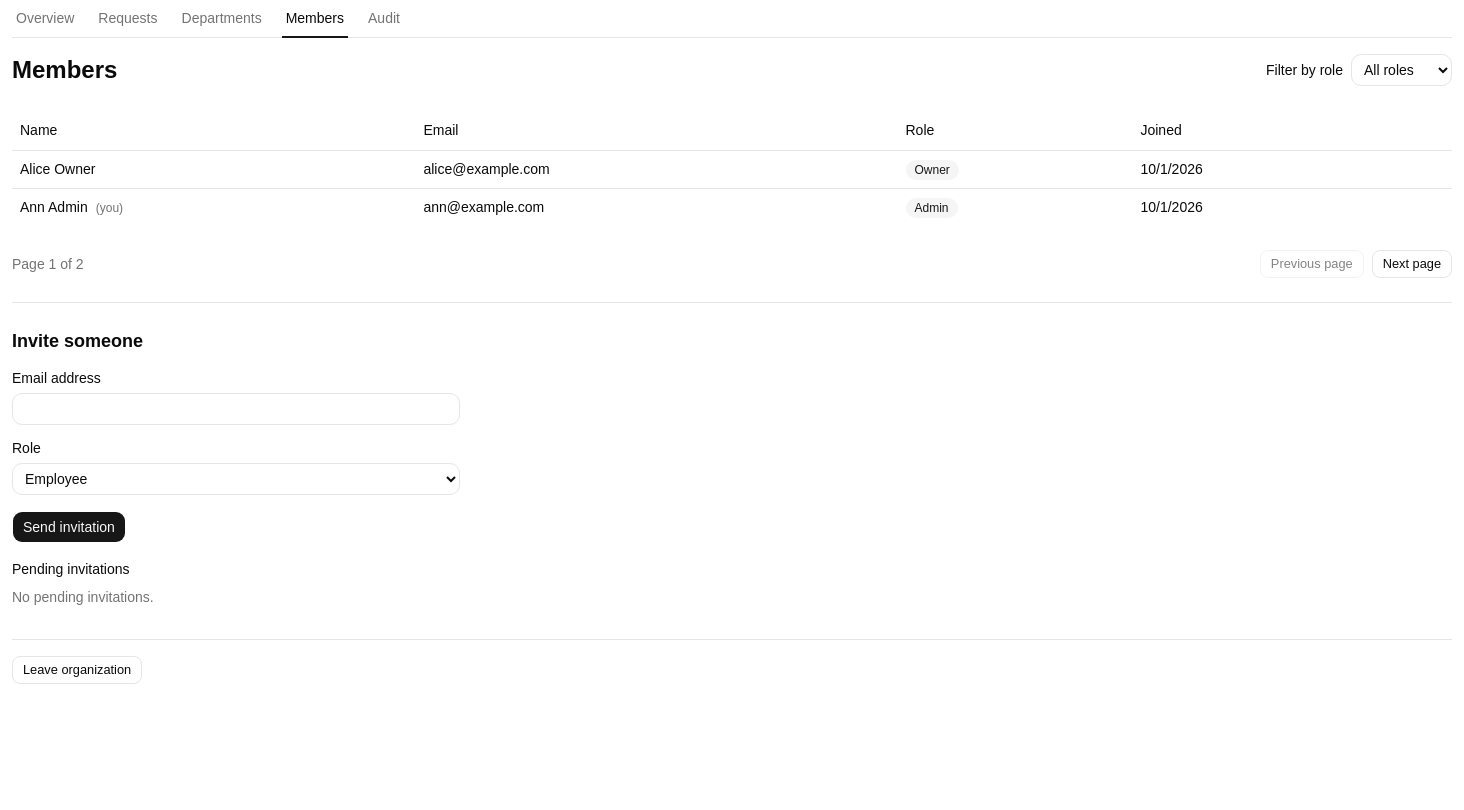
Scenario: MembersPage › moves between pages
Expected: the text "Page 1 of 2" is shown, [12, 254, 84, 274]
Expected: the button "Previous page" is disabled, [1260, 250, 1364, 278]
Click the button "Next page" at (1412, 264), box [1372, 250, 1452, 278]
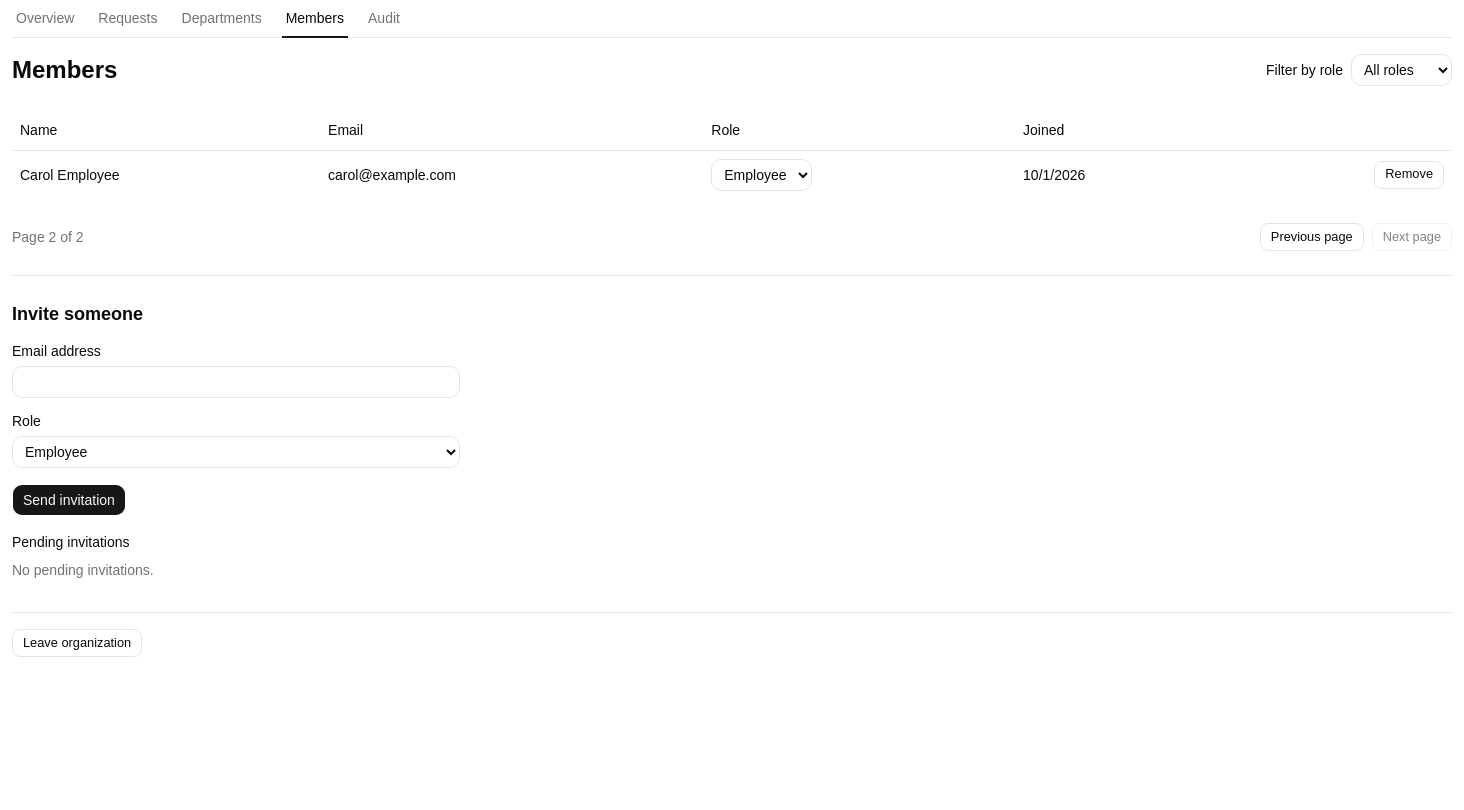
Now the text "Carol Employee" is shown, box [12, 150, 320, 198]
Now the text "Page 2 of 2" is shown, box [12, 226, 84, 246]
